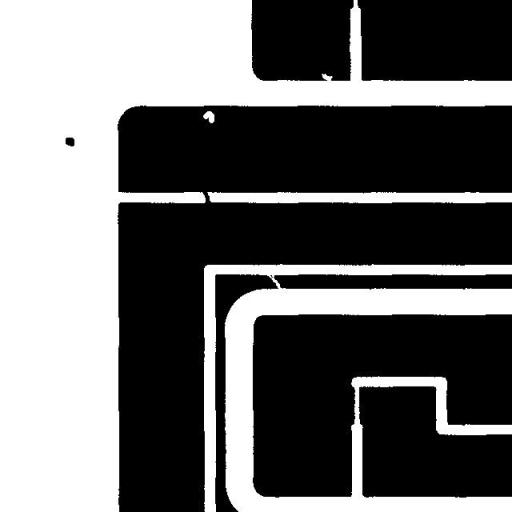copper: (58, 130, 82, 154)
mousebite: (314, 66, 340, 88)
open: (258, 262, 290, 300)
pin-hole: (195, 104, 222, 130)
short: (194, 180, 218, 213)
